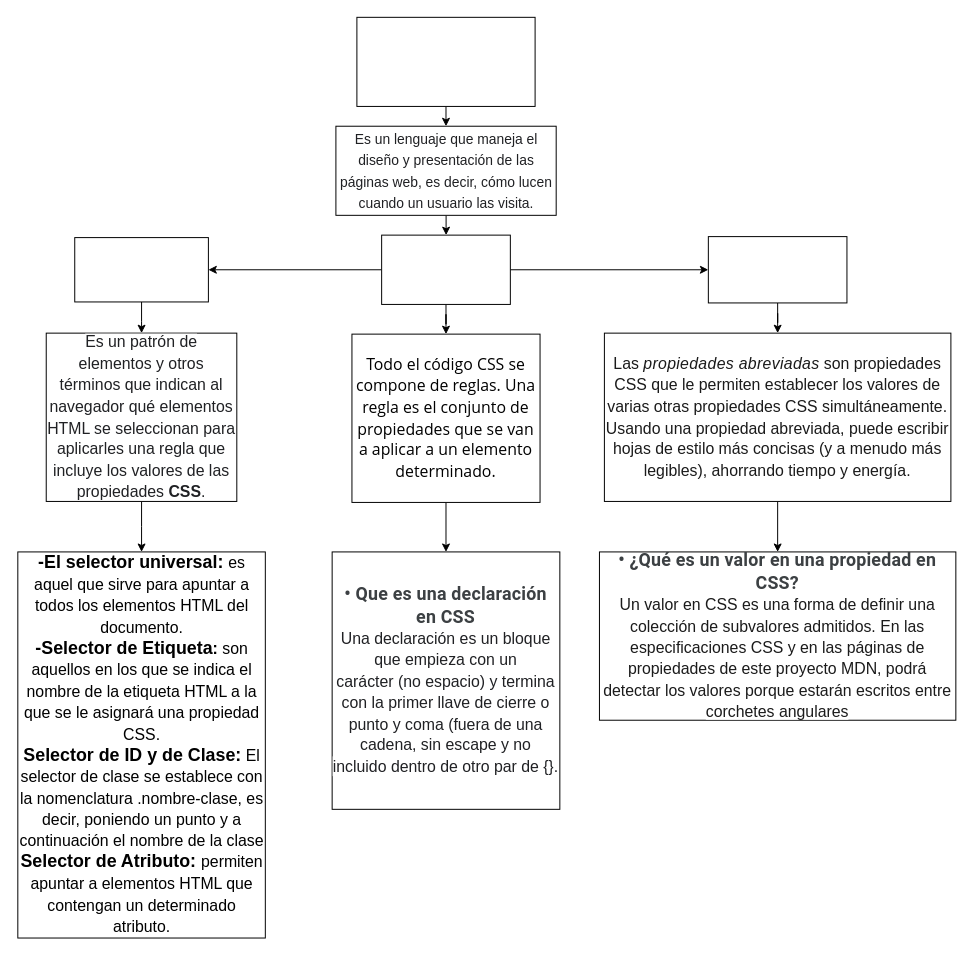
Some shapes in this 973 by 955 pixel diagram are drawn without their labels. Here are the shapes that lost their labels. From the top down, the box of each, then its label:
(356, 16, 535, 106): CSS ( hojas de estilo en cascada)
(74, 237, 208, 302): ¿Qué es un selector en CSS?
(381, 234, 510, 304): ¿Qué es una regla en CSS
(707, 236, 847, 303): ¿Qué es una propiedad en CSS?
